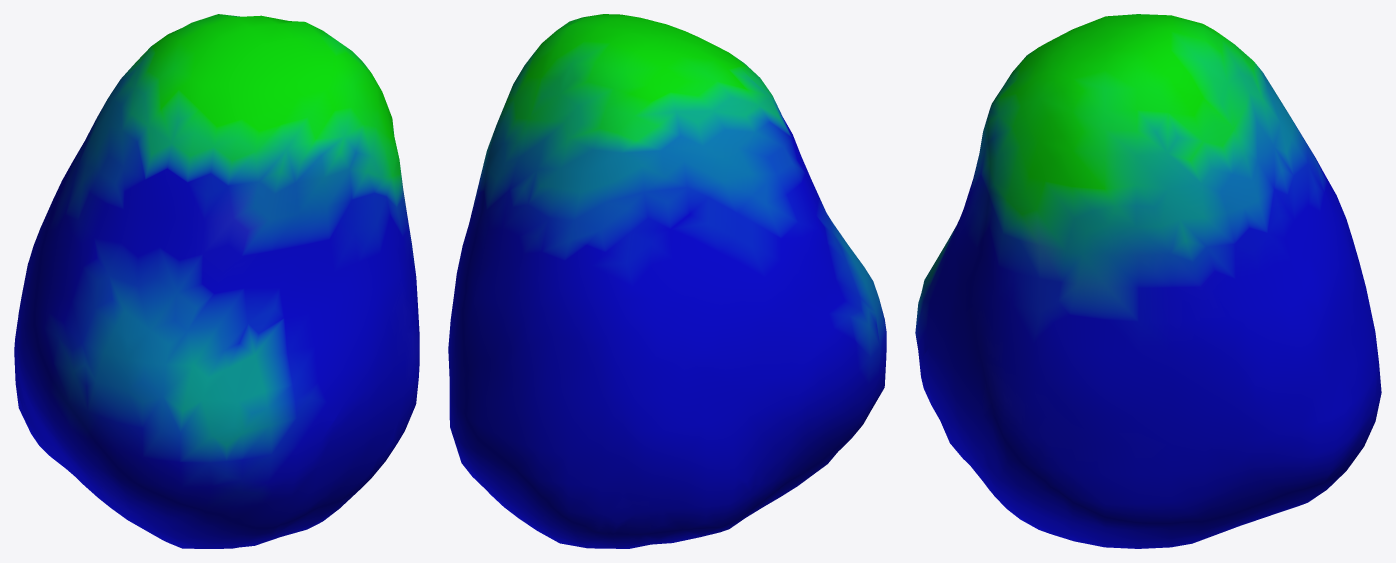
The model's file is boulder1.fbx.
3 renders of one model, left to right at view 1: azimuth 30°, elevation 25°; view 2: azimuth 150°, elevation 25°; view 3: azimuth 270°, elevation 25°, orthographic. The views are drawn at different scales.
Visible parts, largest first — view 1: Cube; view 2: Cube; view 3: Cube.
Boxes of the visible parts, x1=… form: Cube: x1=14, y1=14, x2=419, y2=548; Cube: x1=448, y1=14, x2=886, y2=548; Cube: x1=915, y1=14, x2=1381, y2=548.
Bounding box in the file's own units: 21.38 × 27.65 × 23.14.
